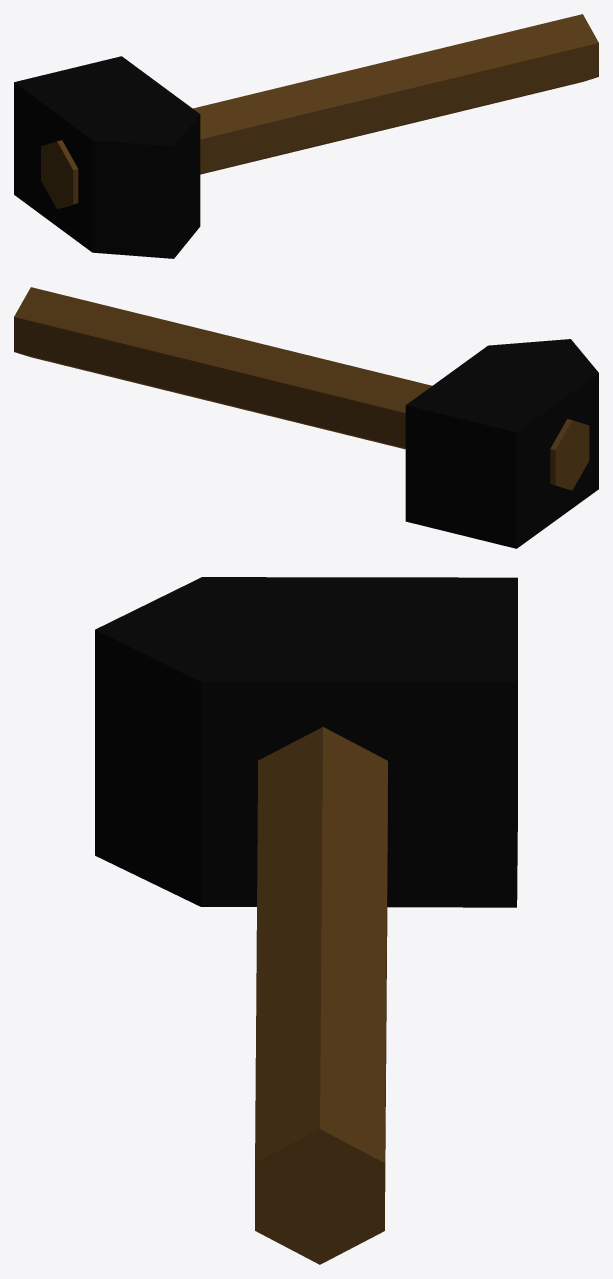
Rendered from Hammer.fbx.
The picture shows the model from 3 angles, top to bottom: view 1: azimuth 30°, elevation 25°; view 2: azimuth 150°, elevation 25°; view 3: azimuth 270°, elevation 25°; orthographic projection. The views are drawn at different scales.
Visible parts, largest first — view 1: Hammer; view 2: Hammer; view 3: Hammer.
Boxes of the visible parts, bbox=[...] form: Hammer: bbox=[14, 14, 598, 258]; Hammer: bbox=[14, 287, 598, 548]; Hammer: bbox=[95, 577, 517, 1264].
Size of the model in its own units: 36.46 by 7.47 by 12.73.
Materials: 1 (1 with a texture image).
